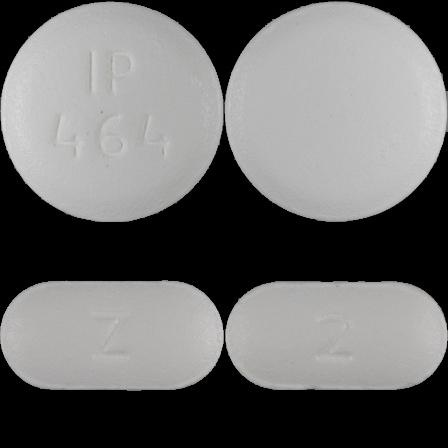63739-672: (0, 0, 224, 224)
